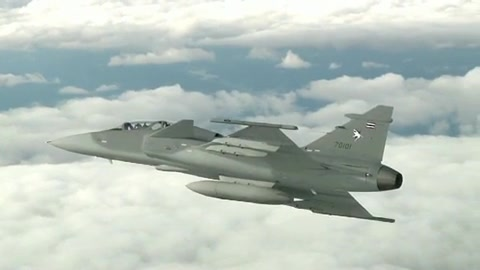aeroplane: (44, 104, 404, 225)
